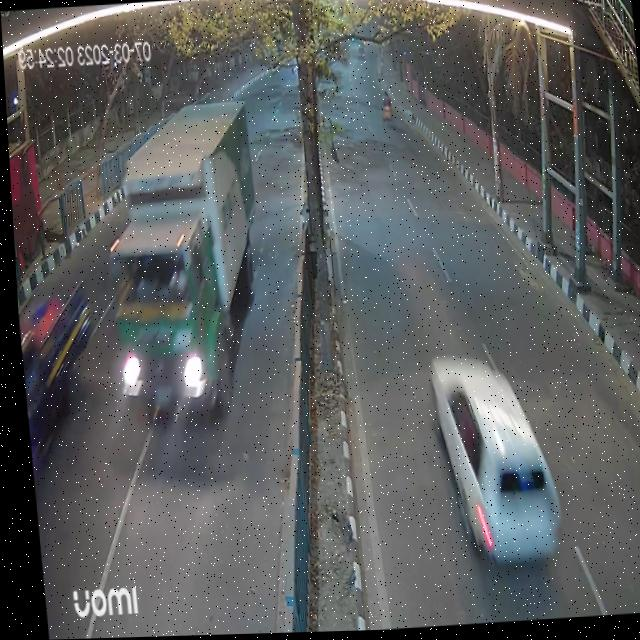rikshaw: (376, 89, 394, 133)
